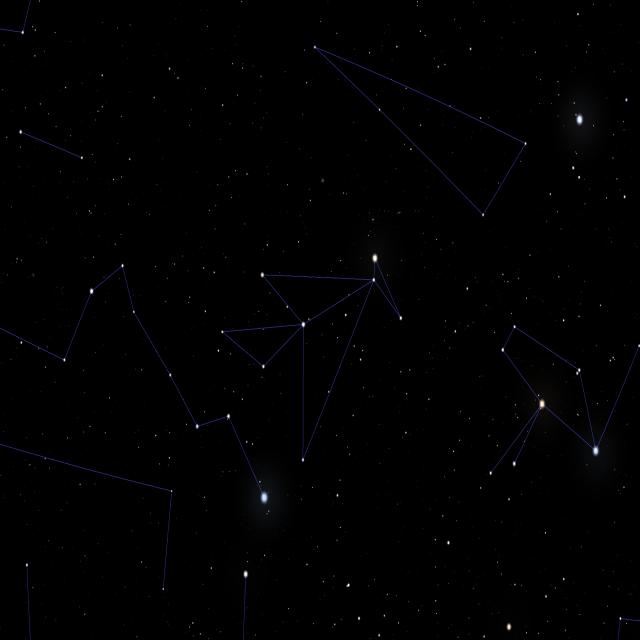Phoenix: (214, 243, 408, 477)
